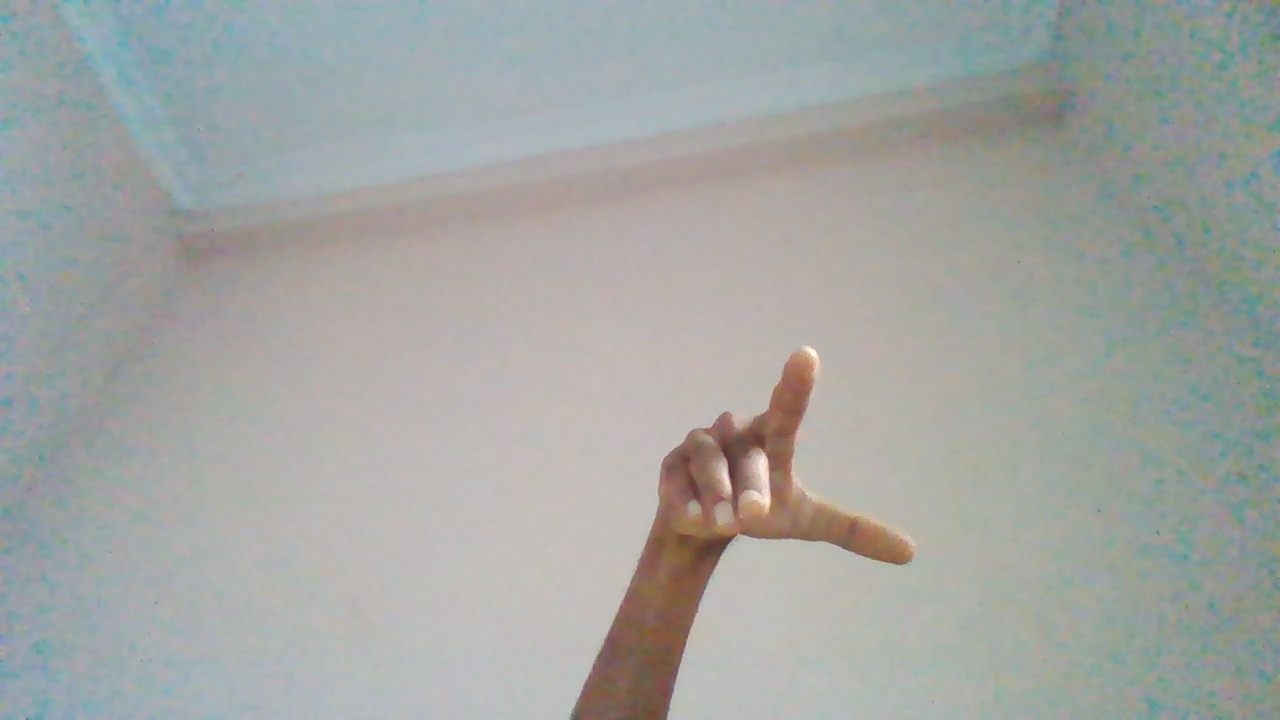ke: (623, 346, 912, 705)
